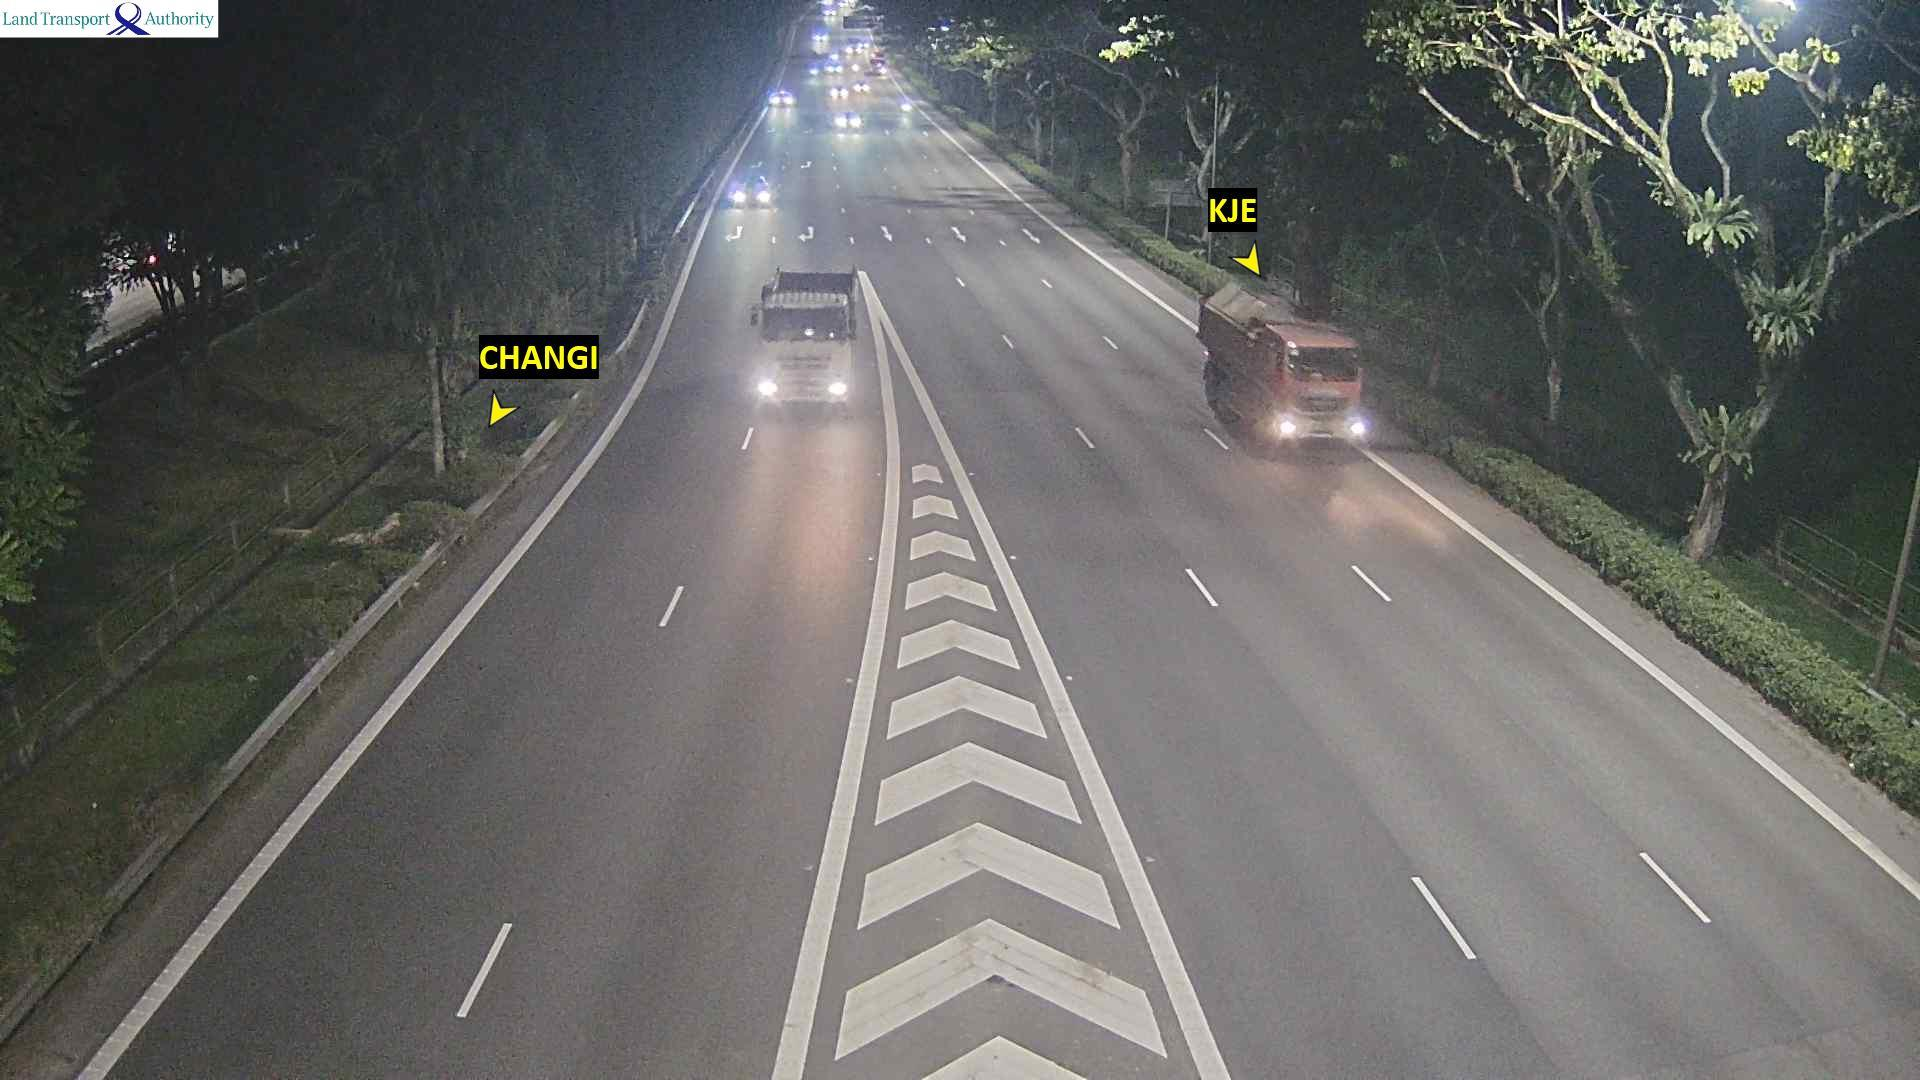incoming: (741, 298, 865, 402), (1266, 338, 1377, 454), (730, 177, 776, 208), (770, 88, 799, 108), (836, 113, 863, 132), (869, 58, 889, 77), (826, 58, 843, 74), (831, 85, 849, 100), (856, 80, 870, 93)
